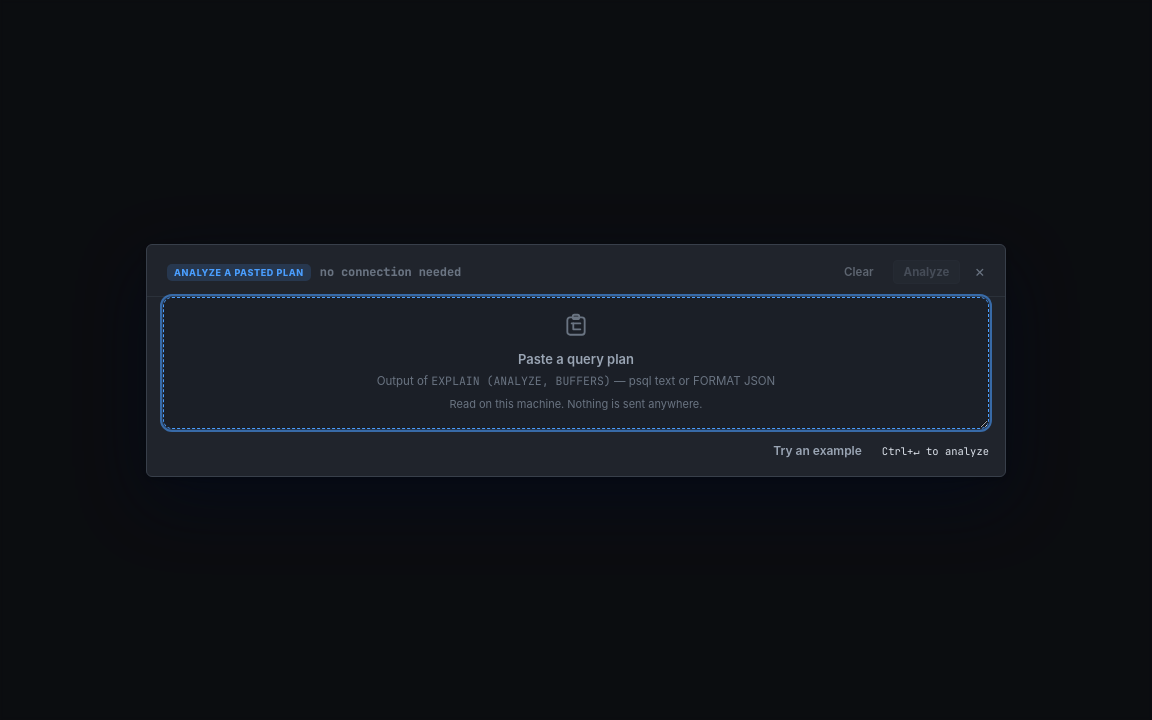
it: PastePlanModal › offers an example so the feature can be seen working
Click the button "Try an example" at [818, 450], box left=762, top=438, right=873, bottom=464
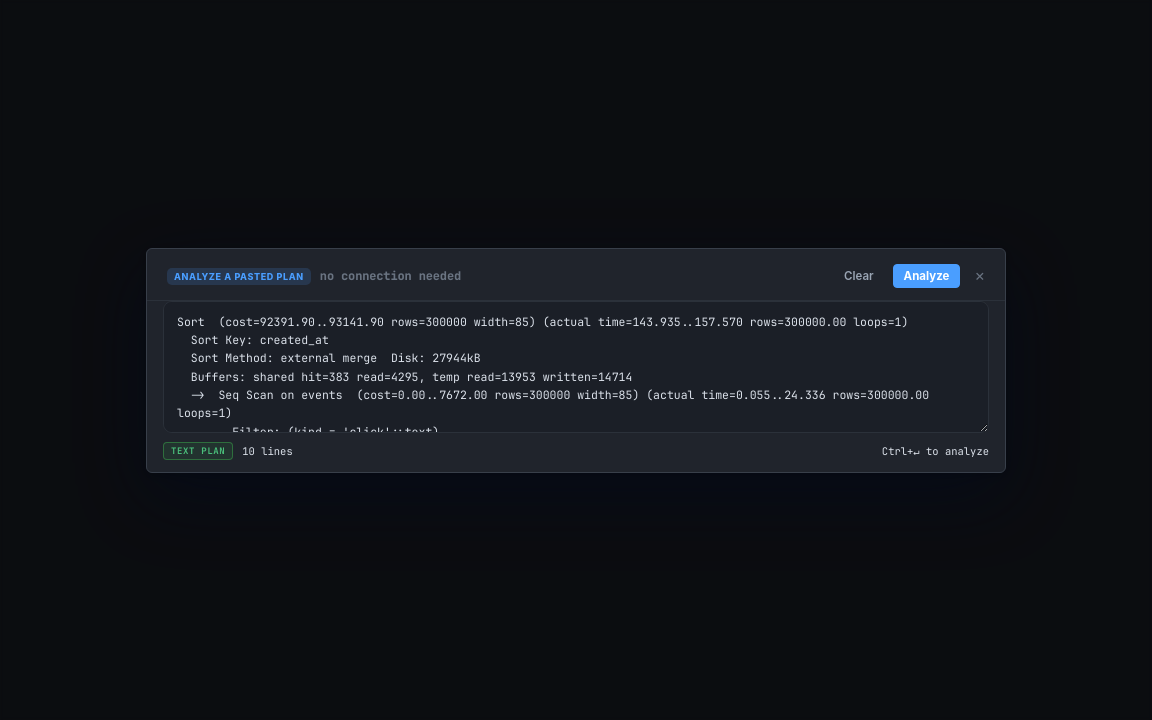
Click the button "Analyze" at [926, 276], box left=893, top=264, right=960, bottom=288
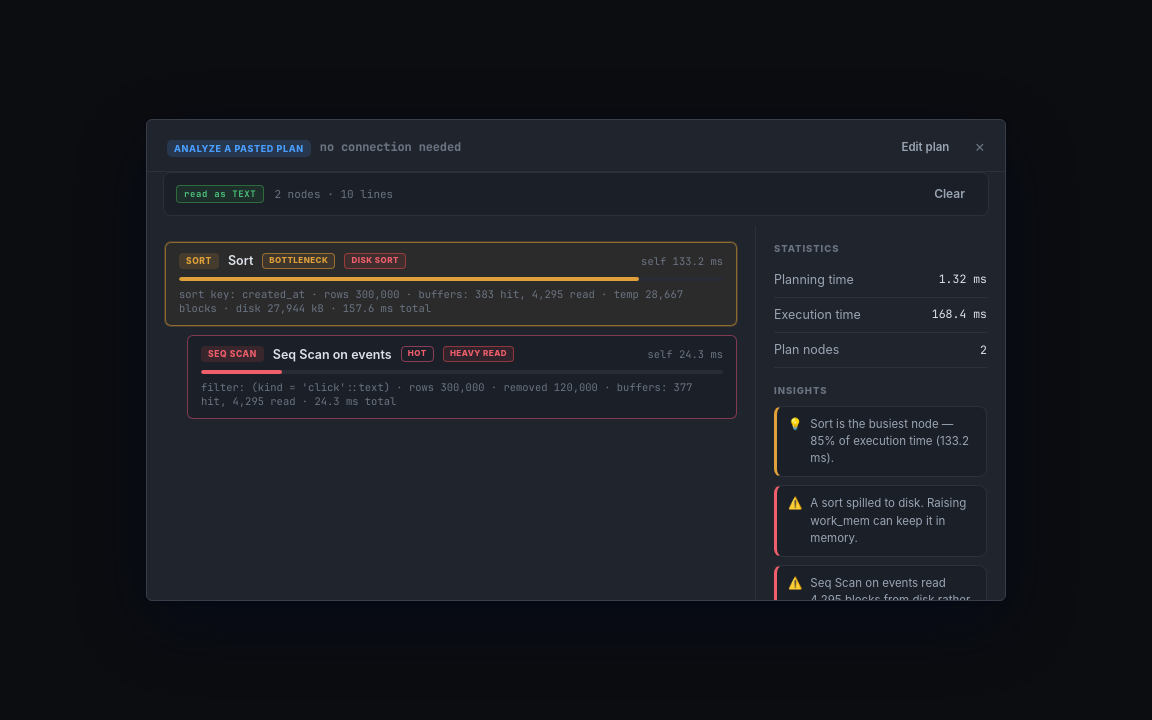
Check: the text "DISK SORT" is shown, box left=344, top=253, right=406, bottom=269
